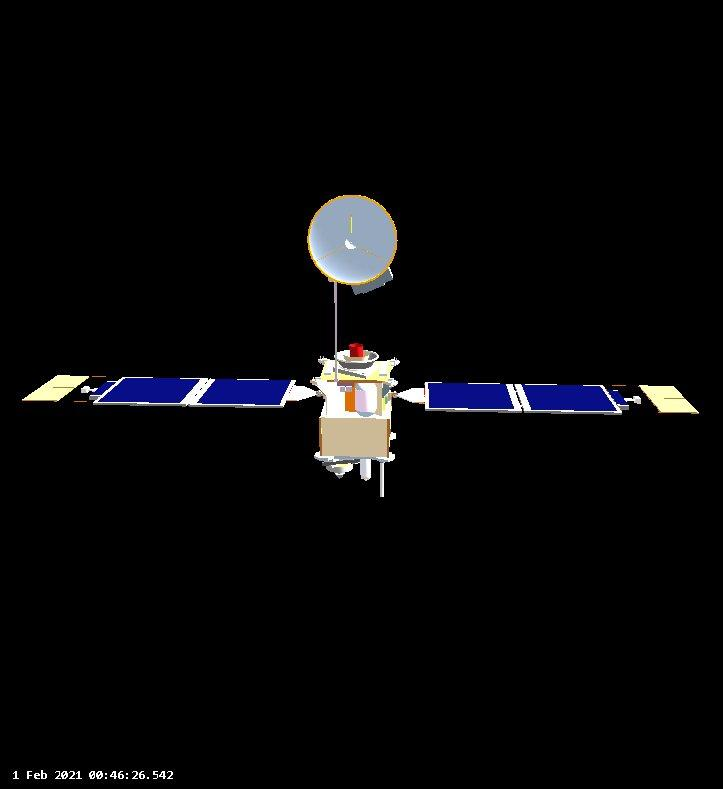antenna: (304, 189, 401, 291)
body: (309, 353, 397, 484)
solar: (419, 375, 702, 423), (15, 369, 298, 411)
thruster: (333, 335, 379, 372)
